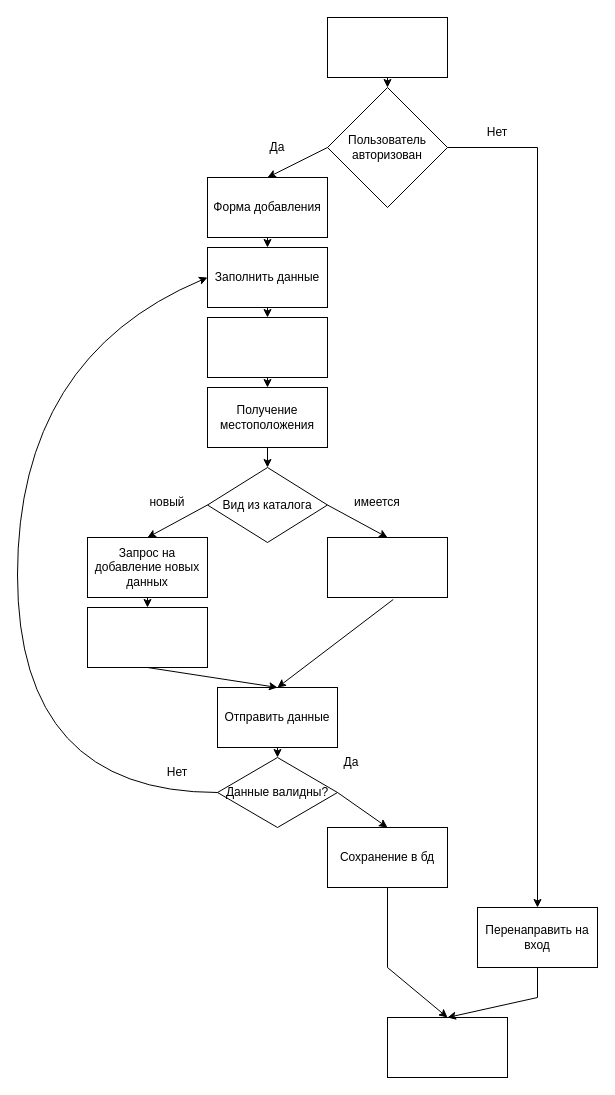
This 615x1095 diagram has some shape labels left out. The shapes that lost their labels are listed below. From the top down, each one's centre as x and y in pixels, then its label:
At (x=387, y=47): "Пользователь хочет добавить".
At (x=267, y=347): "Загрузить гео-данные".
At (x=387, y=567): "Выбрать существующий вид".
At (x=147, y=637): "Ожидание подтверждения".
At (x=447, y=1047): "Конец процесса".
